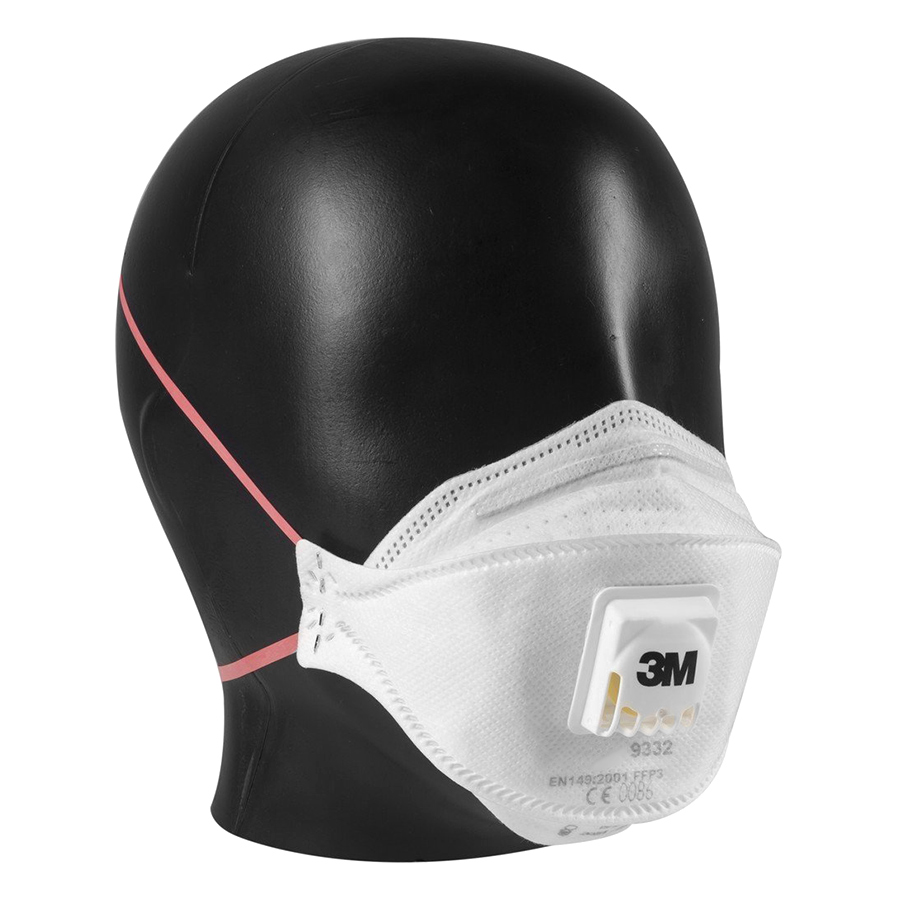3M: (632, 641, 702, 698)
